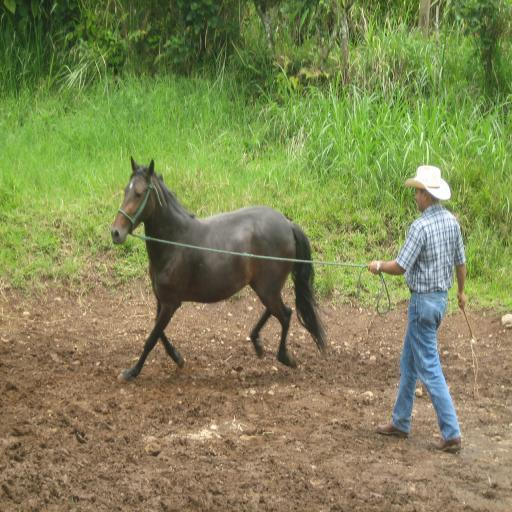horse: (110, 156, 330, 380)
